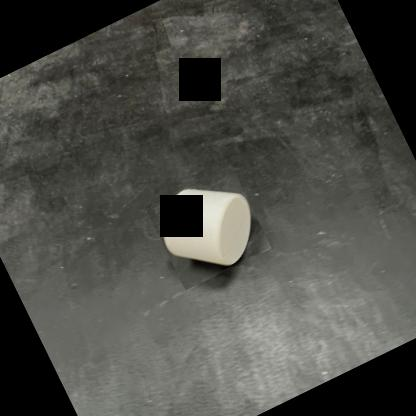white cylinder: (145, 164, 272, 290)
